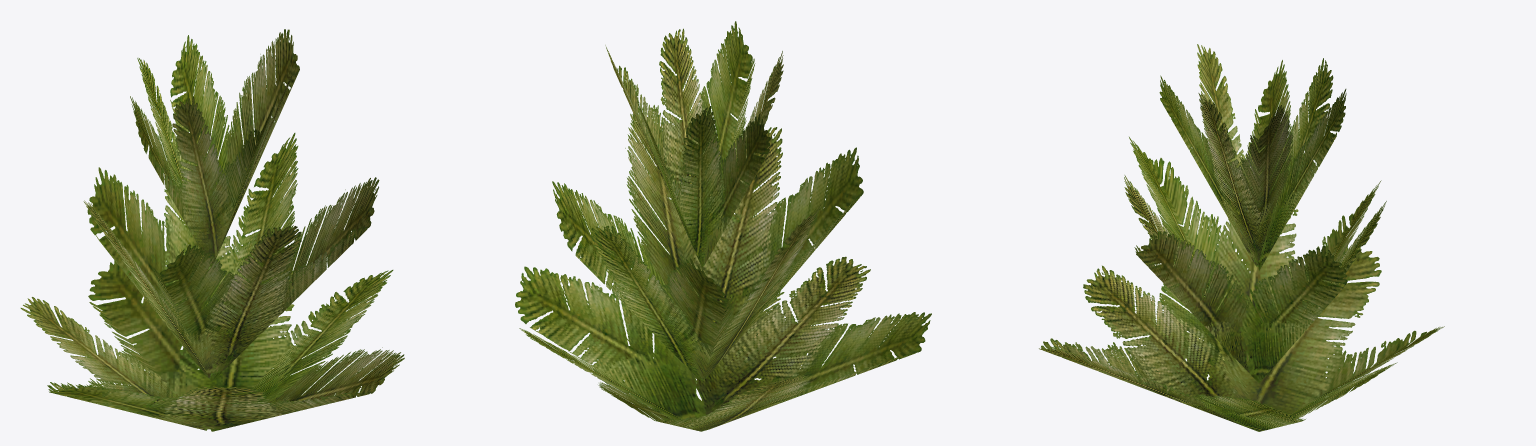
Rendered from bush_tropic_b_1.glb.
3 renders of one model, left to right at view 1: azimuth 30°, elevation 25°; view 2: azimuth 150°, elevation 25°; view 3: azimuth 270°, elevation 25°, orthographic.
Parts seen in each view (by area): view 1: bush_tropic_b_1; view 2: bush_tropic_b_1; view 3: bush_tropic_b_1.
Boxes of the visible parts, left/top/right/bottom form: bush_tropic_b_1: left=20, top=29, right=404, bottom=431; bush_tropic_b_1: left=515, top=21, right=931, bottom=431; bush_tropic_b_1: left=1039, top=44, right=1444, bottom=431.
Size of the model in its own units: 2.62 by 2.02 by 2.62.
1 material, 1 textured.
